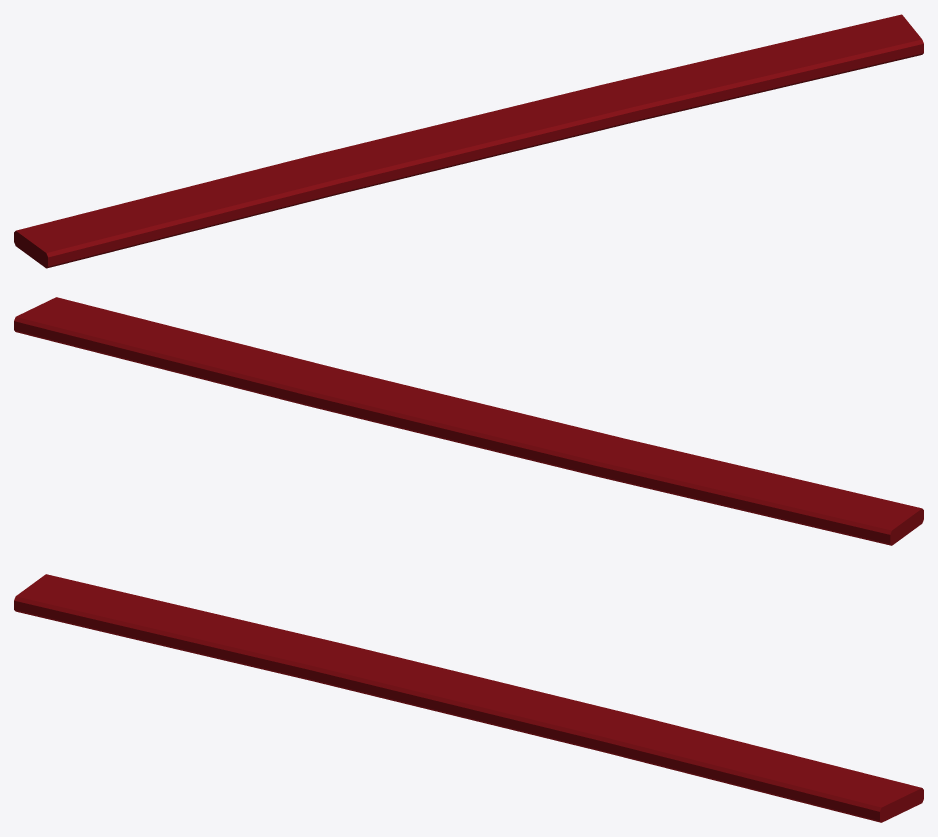
File: SM_MH_01_Wood_Plank_02.fbx
3 views of the same model, one above another, from view 1: azimuth 30°, elevation 25°; view 2: azimuth 150°, elevation 25°; view 3: azimuth 330°, elevation 25° (orthographic).
Visible parts, largest first — view 1: SM_MH_01_Wood_Plank_02_LOD0; view 2: SM_MH_01_Wood_Plank_02_LOD0; view 3: SM_MH_01_Wood_Plank_02_LOD0.
Boxes of the visible parts, bbox=[...] form: SM_MH_01_Wood_Plank_02_LOD0: bbox=[14, 14, 923, 268]; SM_MH_01_Wood_Plank_02_LOD0: bbox=[14, 297, 923, 545]; SM_MH_01_Wood_Plank_02_LOD0: bbox=[14, 574, 923, 822].
Size of what is drawn, in the model's own units: 300 by 5 by 21.7.
